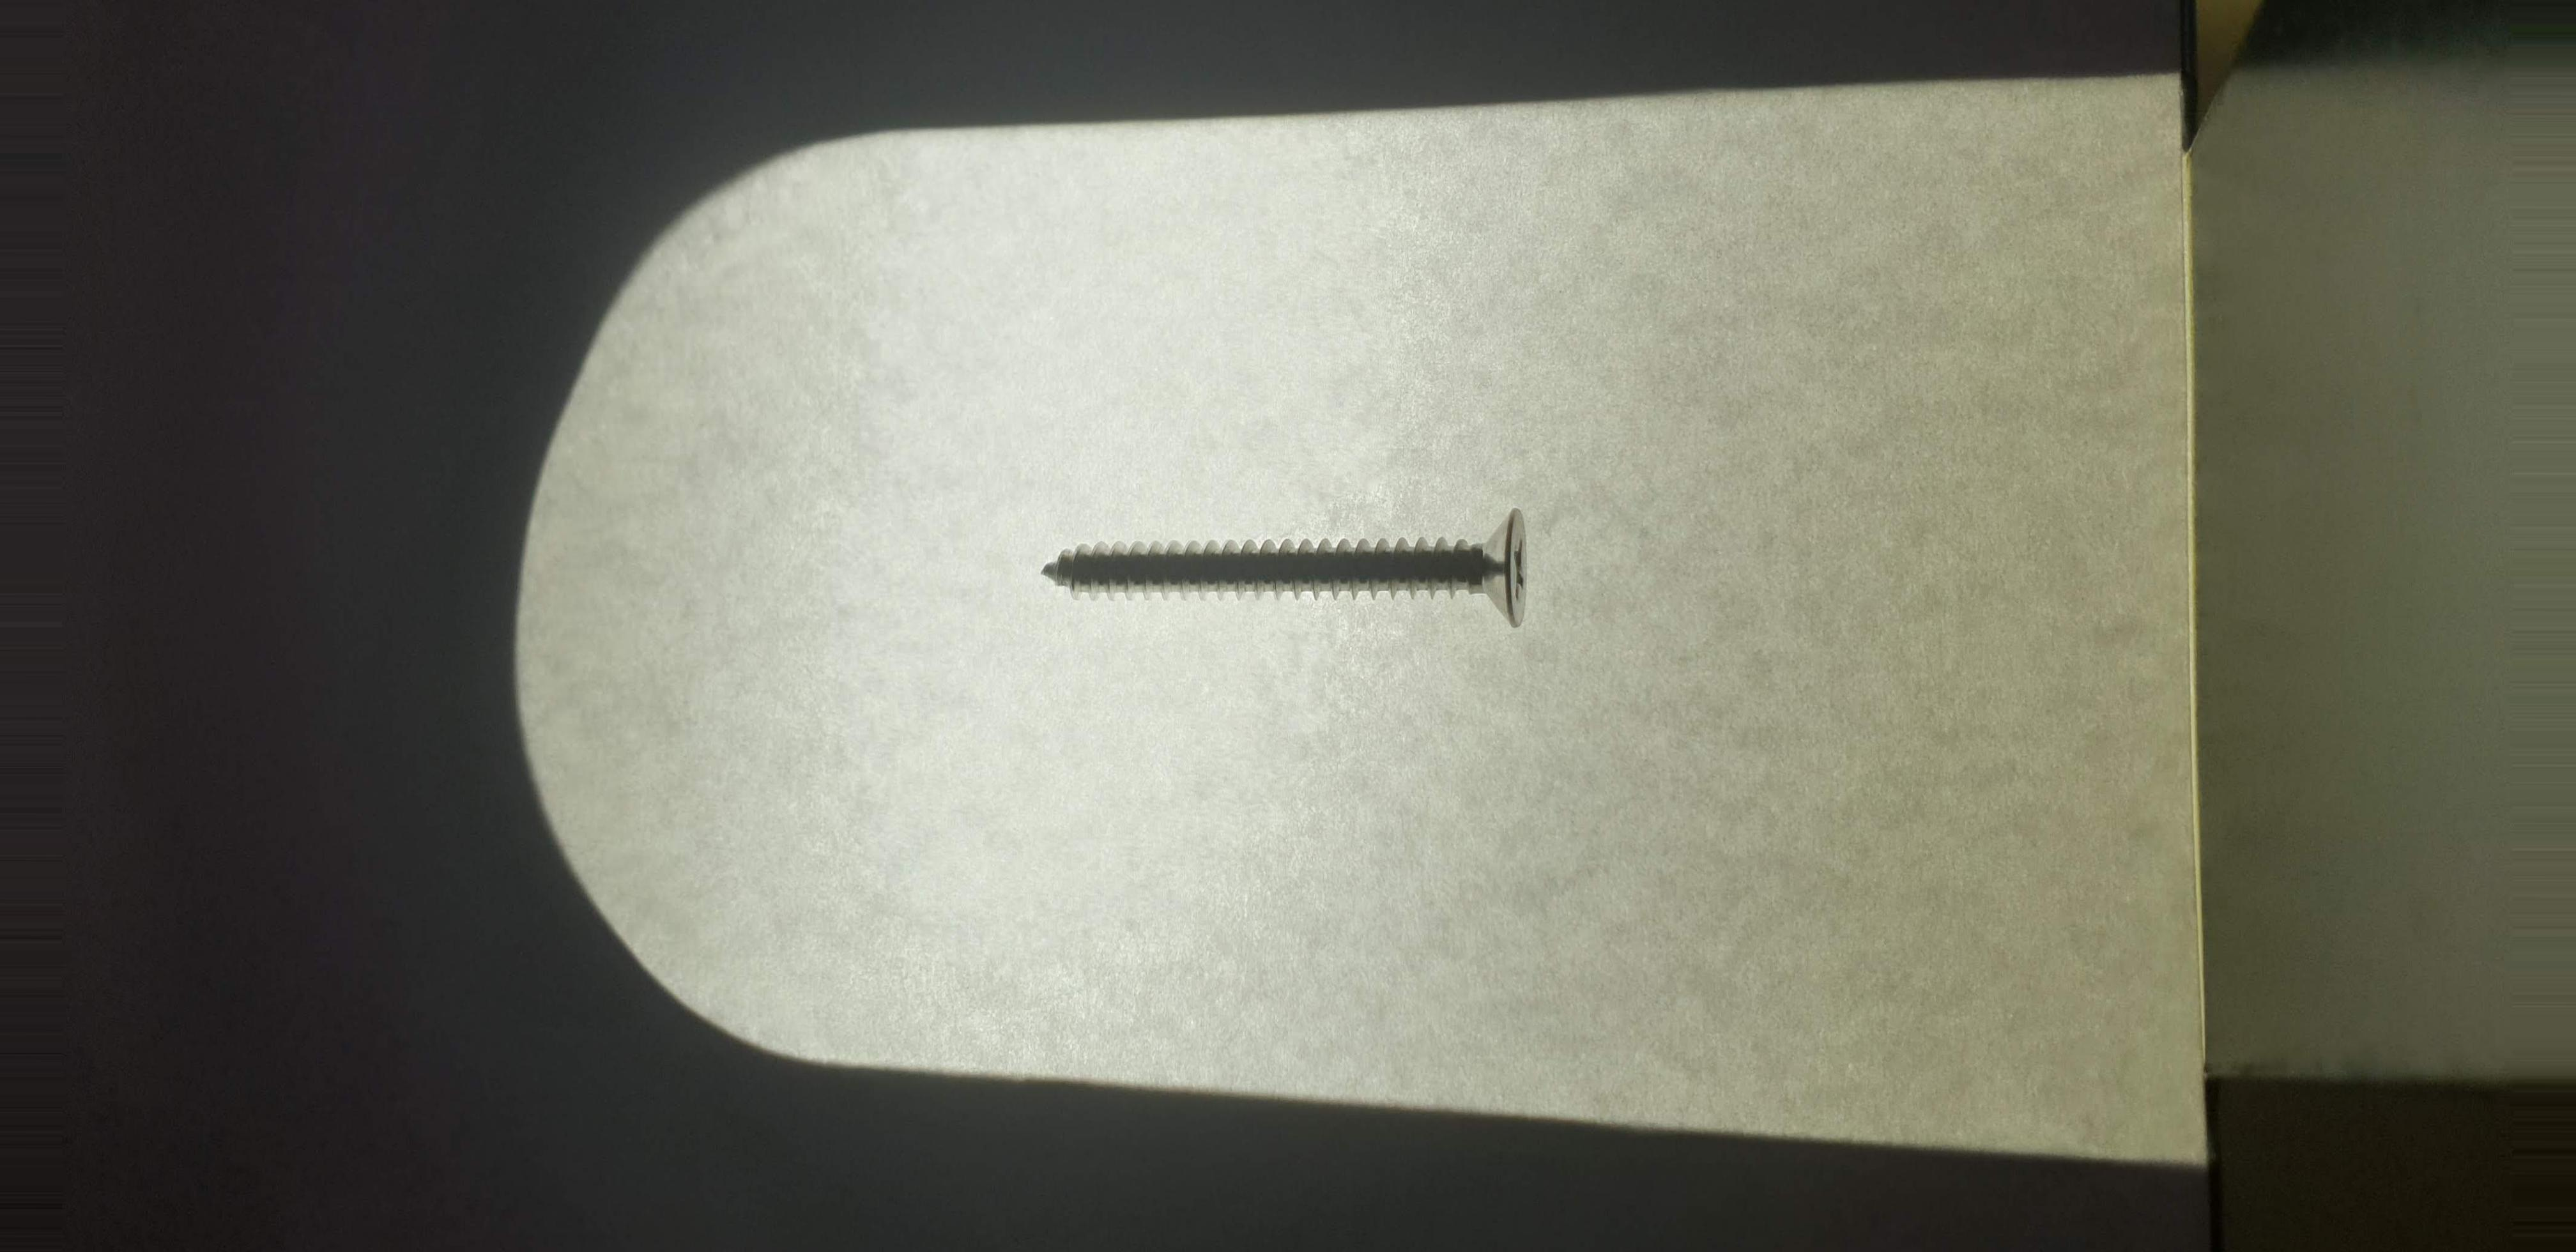S001: (996, 495, 1566, 654)
